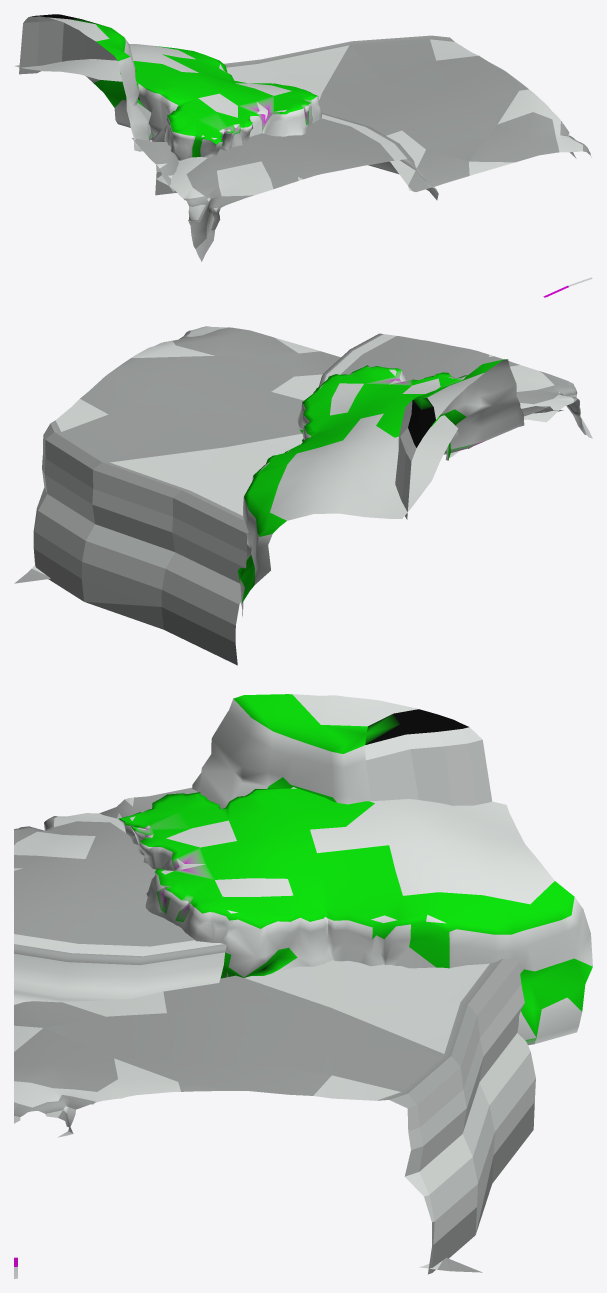
3 renders of one model, top to bottom at view 1: azimuth 30°, elevation 25°; view 2: azimuth 150°, elevation 25°; view 3: azimuth 270°, elevation 25°, orthographic. The views are drawn at different scales.
Visible parts, largest first — view 1: G:\FFXIV-MapTools\exports\f1f1\bg\ffxiv\fst_f1\fld\f1f1\bgpl (×7); view 2: G:\FFXIV-MapTools\exports\f1f1\bg\ffxiv\fst_f1\fld\f1f1\bgpl (×7); view 3: G:\FFXIV-MapTools\exports\f1f1\bg\ffxiv\fst_f1\fld\f1f1\bgpl (×7).
Boxes of the visible parts, x1,y1,x2,y2 form: G:\FFXIV-MapTools\exports\f1f1\bg\ffxiv\fst_f1\fld\f1f1\bgpl (×7): [14, 14, 592, 297]; G:\FFXIV-MapTools\exports\f1f1\bg\ffxiv\fst_f1\fld\f1f1\bgpl (×7): [14, 326, 592, 665]; G:\FFXIV-MapTools\exports\f1f1\bg\ffxiv\fst_f1\fld\f1f1\bgpl (×7): [14, 694, 592, 1278].
Bounding box in the file's own units: 128 × 82.05 × 125.
